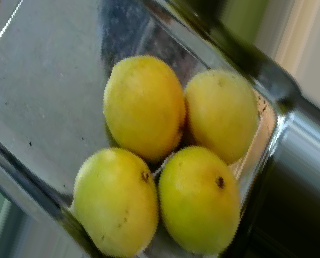Mango: (67, 147, 159, 255), (157, 146, 240, 252), (101, 55, 186, 158), (185, 70, 257, 162)
